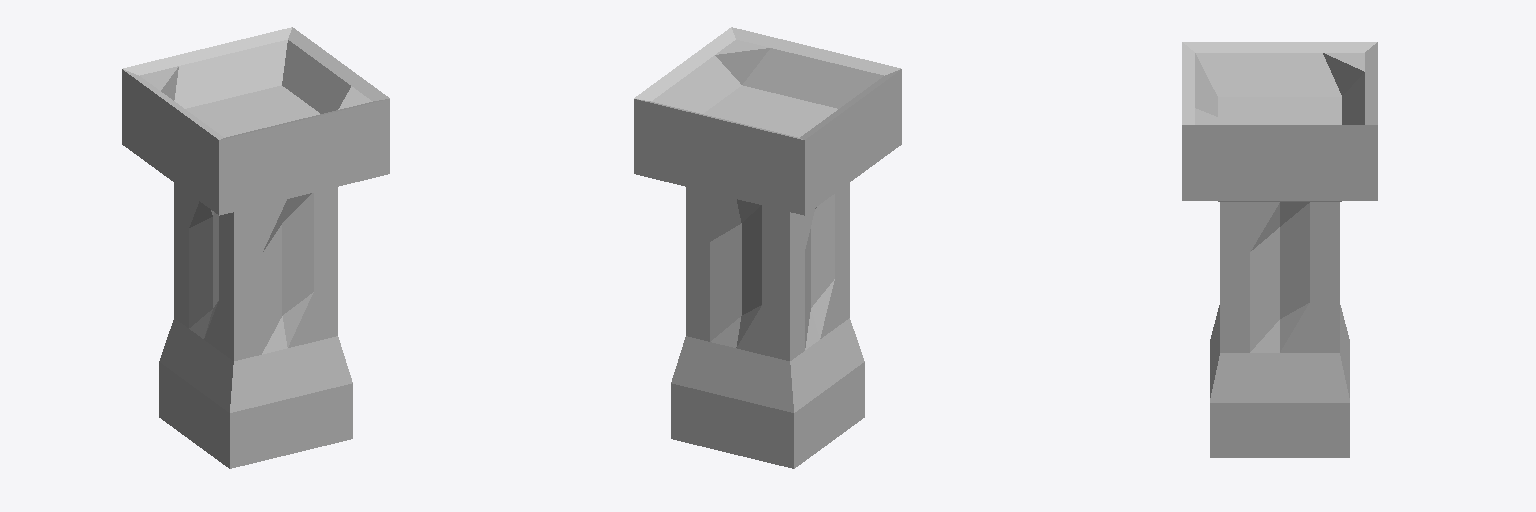
Rendered from wallTower.obj.
The picture shows the model from 3 angles: view 1: azimuth 30°, elevation 25°; view 2: azimuth 150°, elevation 25°; view 3: azimuth 270°, elevation 25°; orthographic projection.
Parts seen in each view (by area): view 1: Cube; view 2: Cube; view 3: Cube.
Boxes of the visible parts, box(x1,y1,x2,y2) form: Cube: box(122, 27, 389, 468); Cube: box(634, 27, 901, 468); Cube: box(1182, 42, 1377, 457).
Bounding box in the file's own units: 0.8336 × 1.6 × 0.8256.